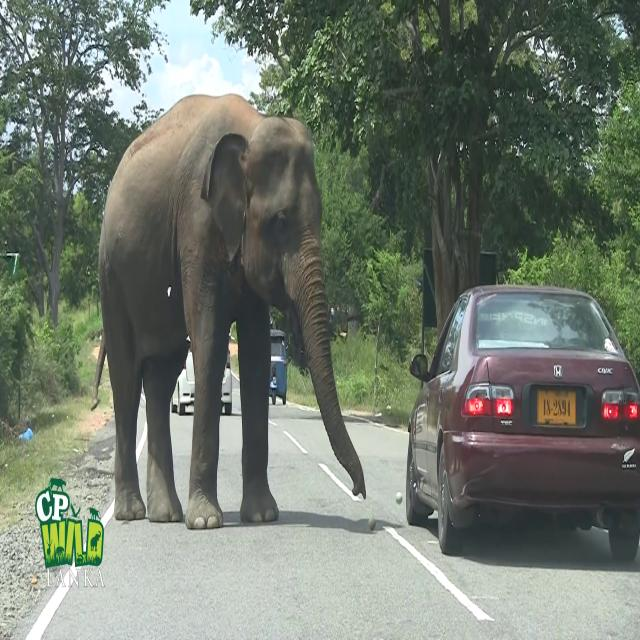Elephant: (90, 92, 367, 528)
